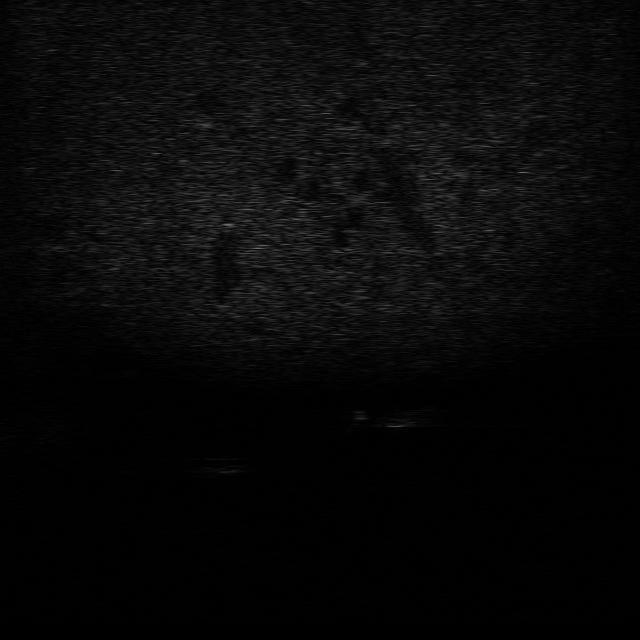ball: (196, 449, 252, 480)
human body: (341, 400, 454, 432)
